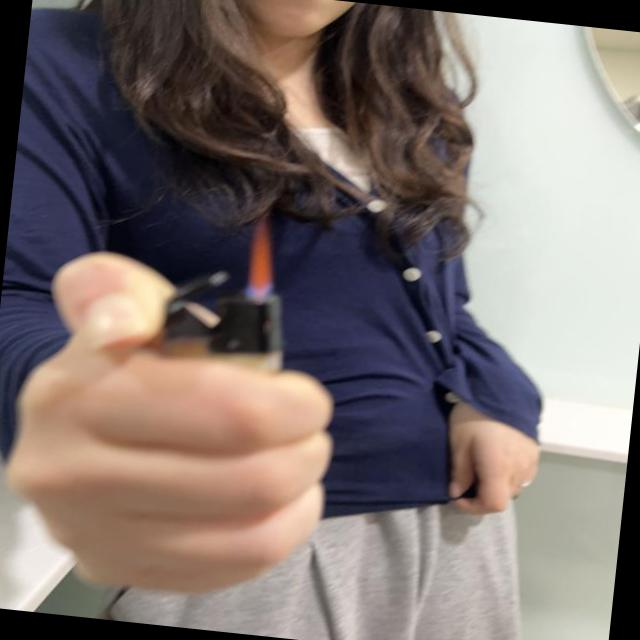Fire: (242, 211, 284, 306)
